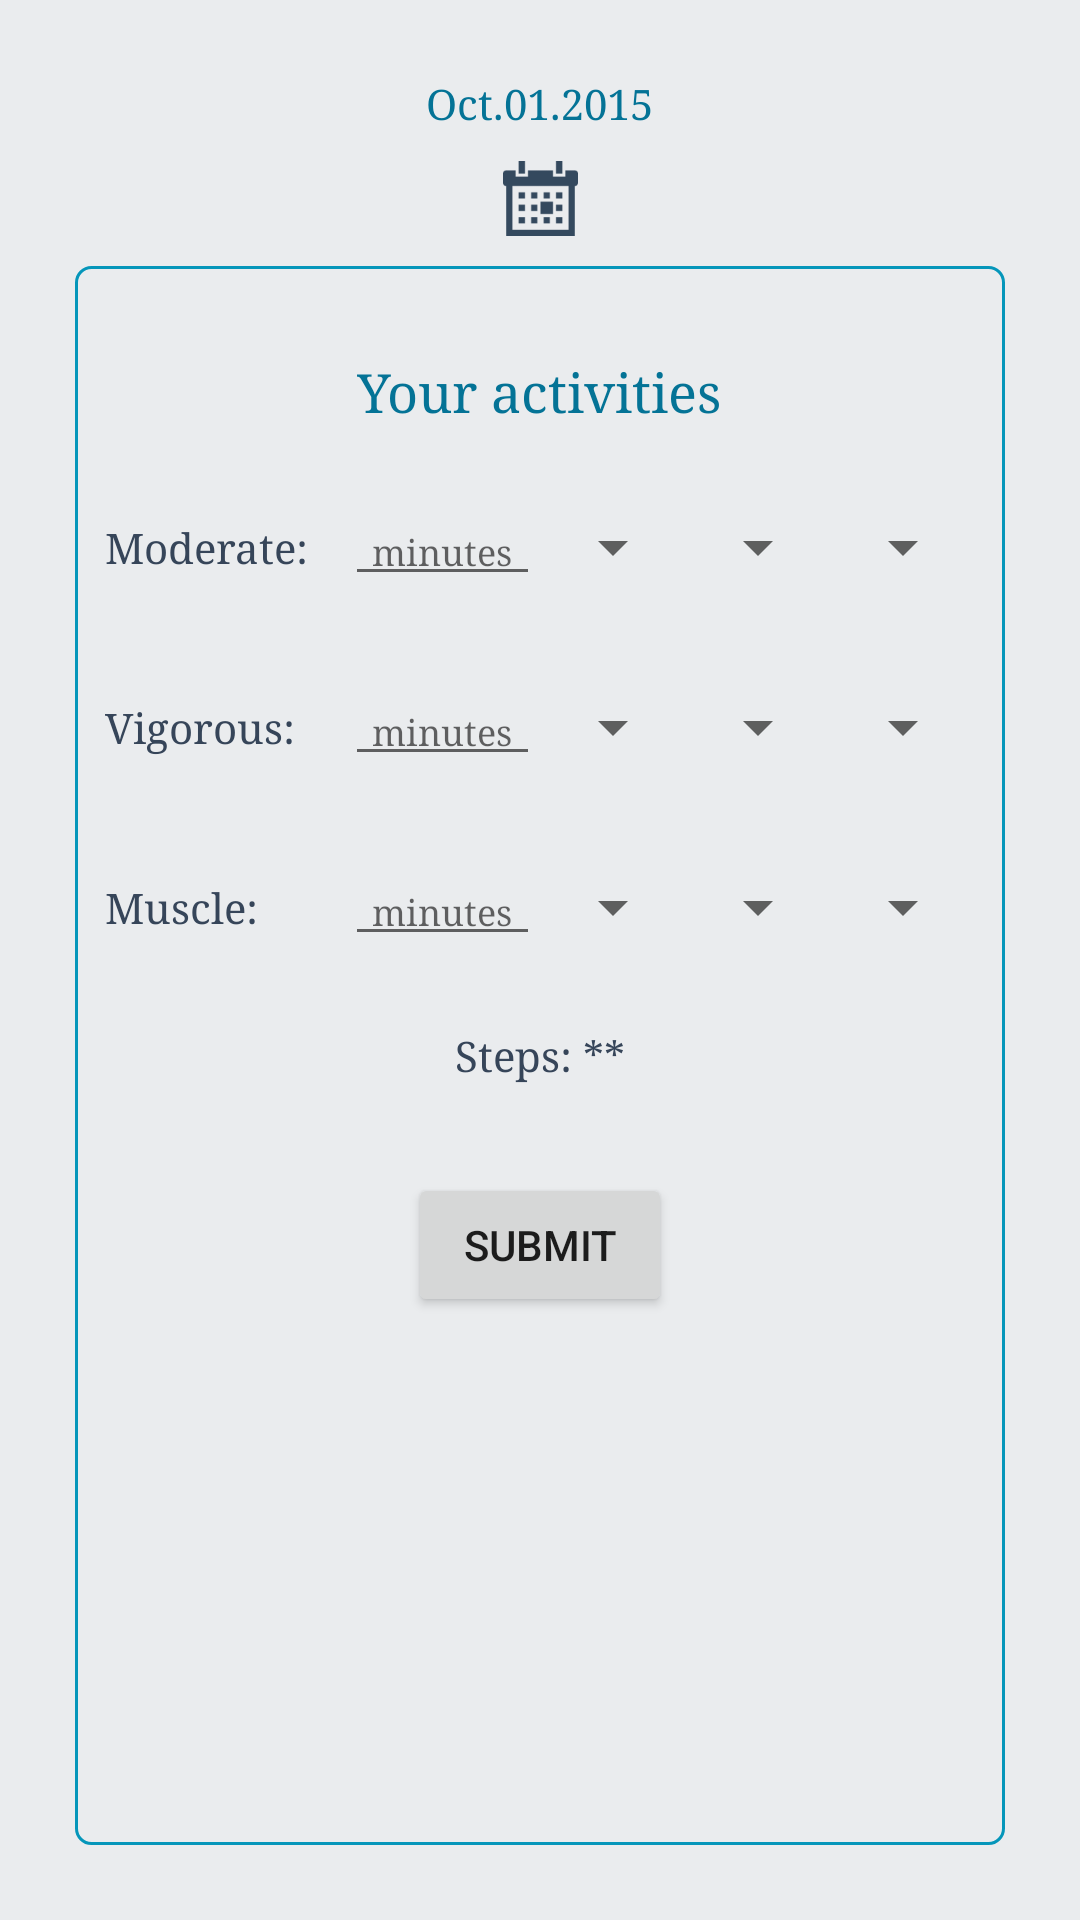

Where to tap for icons on this 1080×1920 app screen, as point (x, y):
calendar: point (540, 198)
